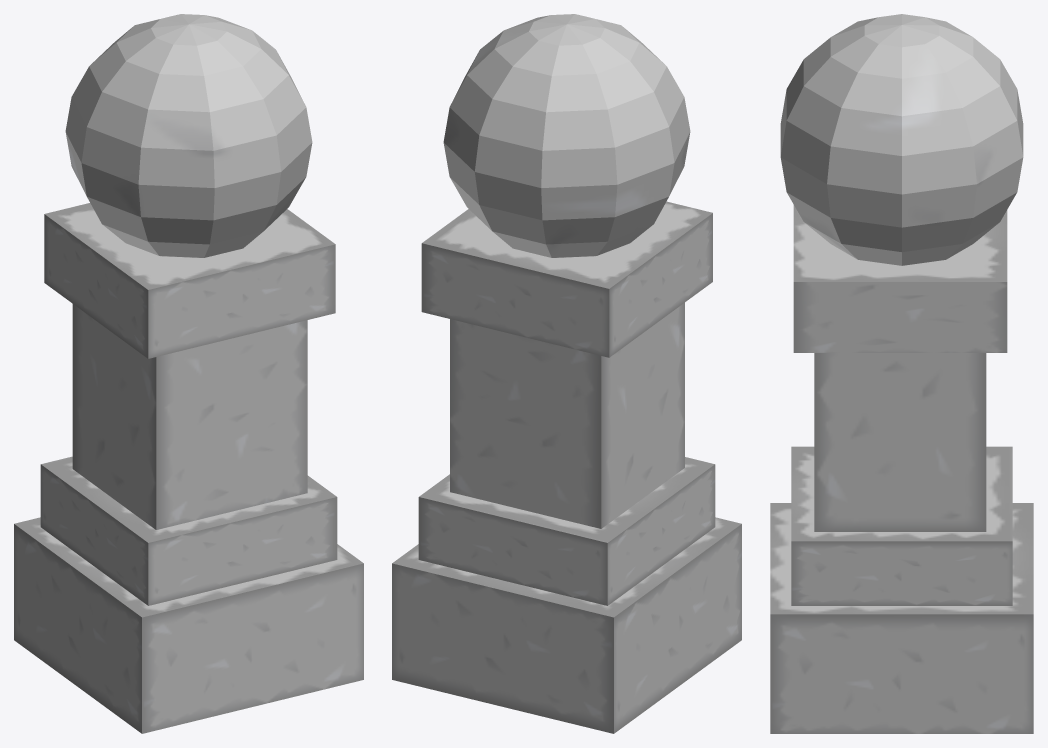
Rendered from stonePillar.fbx.
The picture shows the model from 3 angles, left to right: view 1: azimuth 30°, elevation 25°; view 2: azimuth 150°, elevation 25°; view 3: azimuth 270°, elevation 25°; orthographic projection. The views are drawn at different scales.
Parts seen in each view (by area): view 1: polySurface1; view 2: polySurface1; view 3: polySurface1.
Boxes of the visible parts, x1,y1,x2,y2 form: polySurface1: (14, 14, 363, 733); polySurface1: (392, 14, 741, 733); polySurface1: (770, 14, 1033, 733).
Bounding box in the file's own units: 5.24 × 14.35 × 5.24.
